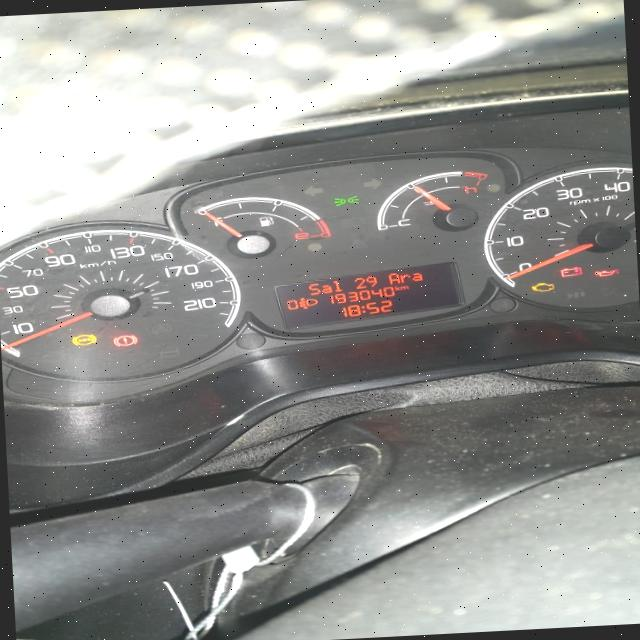odometer: (270, 260, 468, 332)
